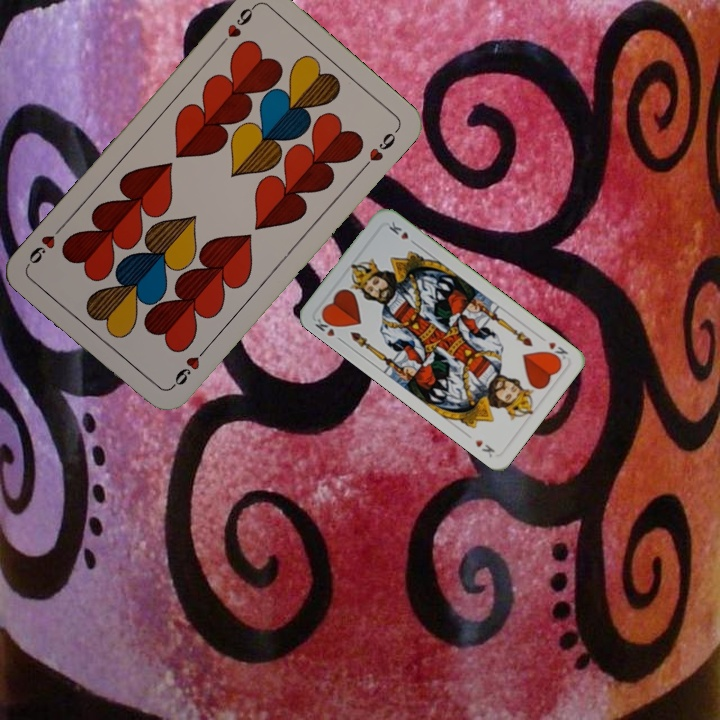H9: (166, 343, 210, 392), (215, 1, 259, 49)
HK: (310, 310, 346, 345), (543, 338, 571, 364)
